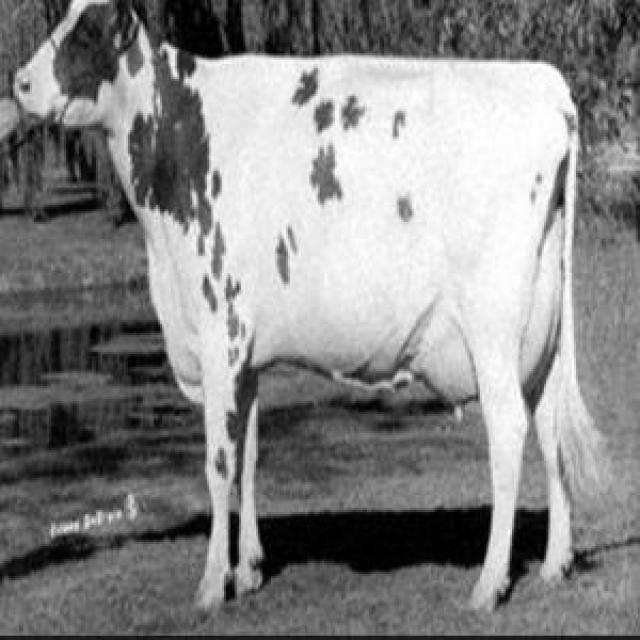cow: (15, 0, 606, 612)
